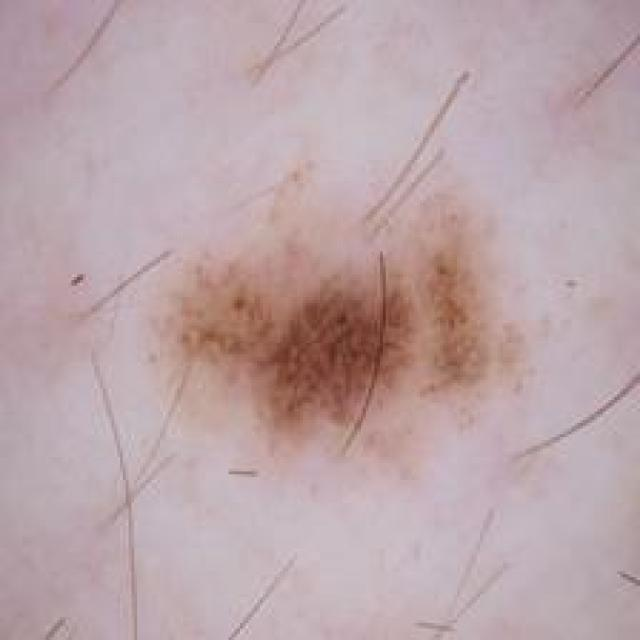Cancer: (153, 213, 524, 458)
